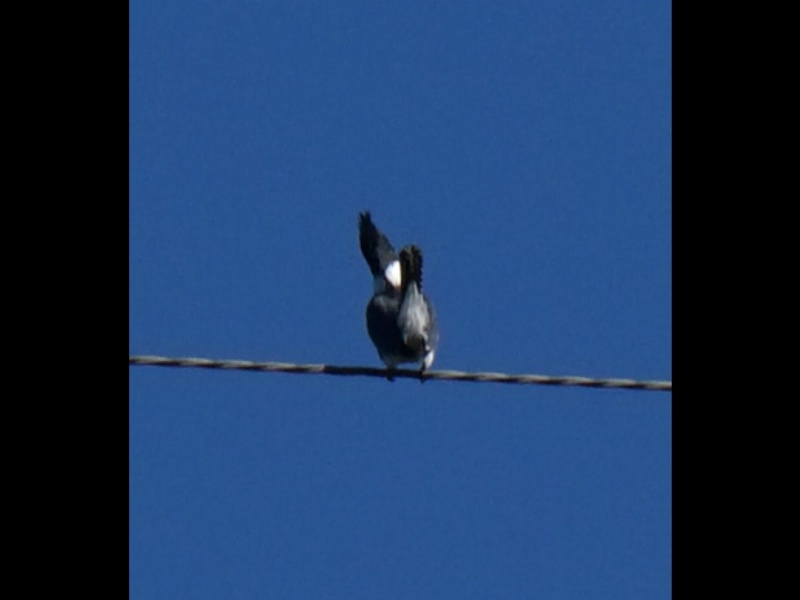kingfisher: (353, 208, 443, 381)
